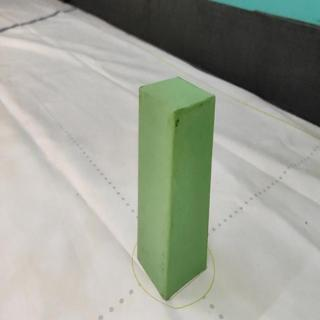greenbox: (137, 74, 216, 301)
